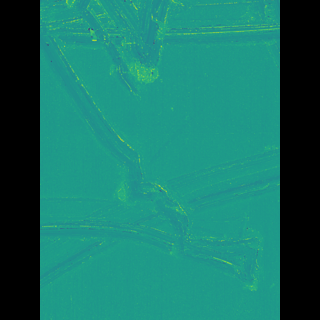Loch: (69, 0, 242, 297)
